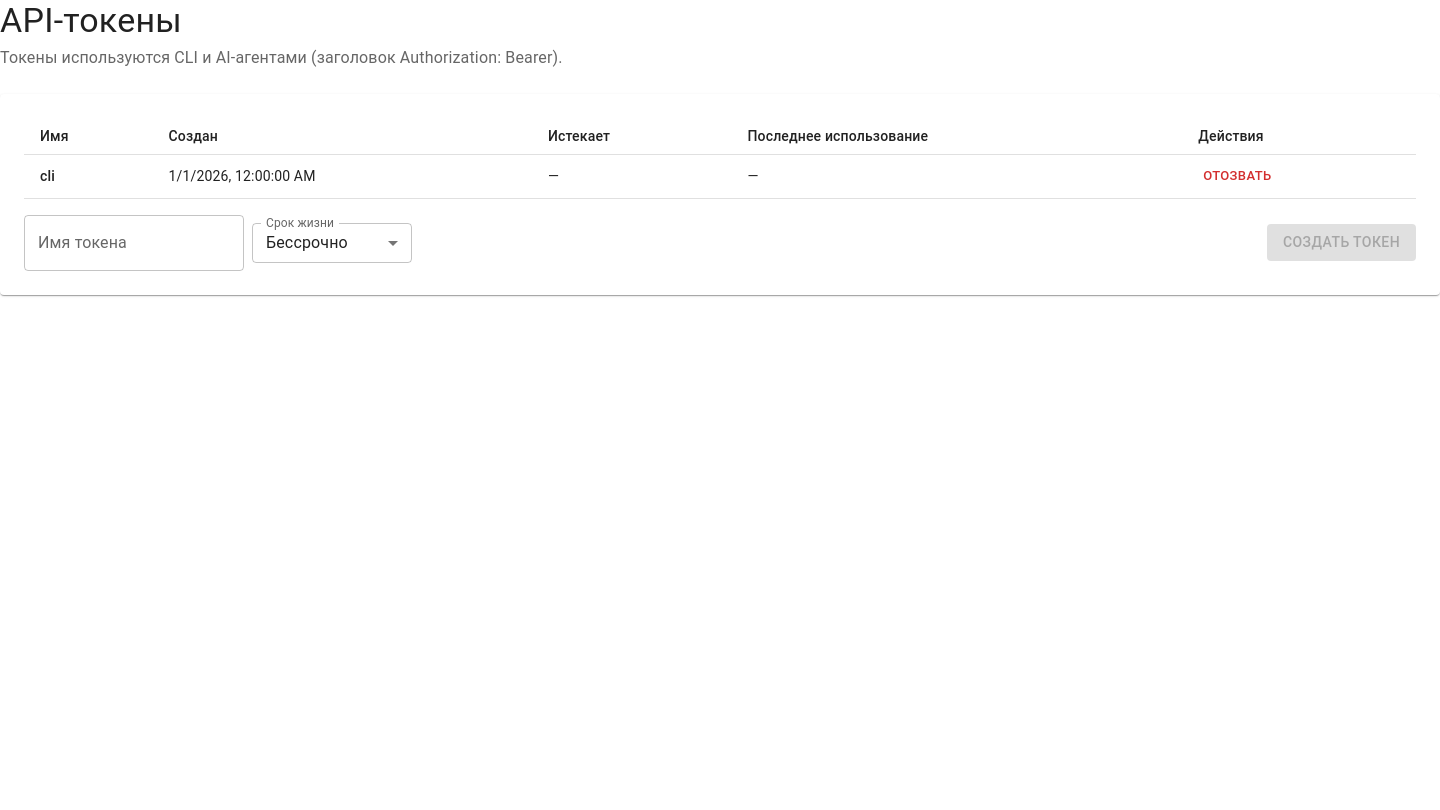
it: lists tokens and creates new one showing raw token once
This screenshot has width=1440, height=810.
Check: the text "cli" is shown, box [24, 154, 153, 198]
Type "new-cli" into the field labelled "Имя токена" at (134, 243), box [24, 215, 244, 271]
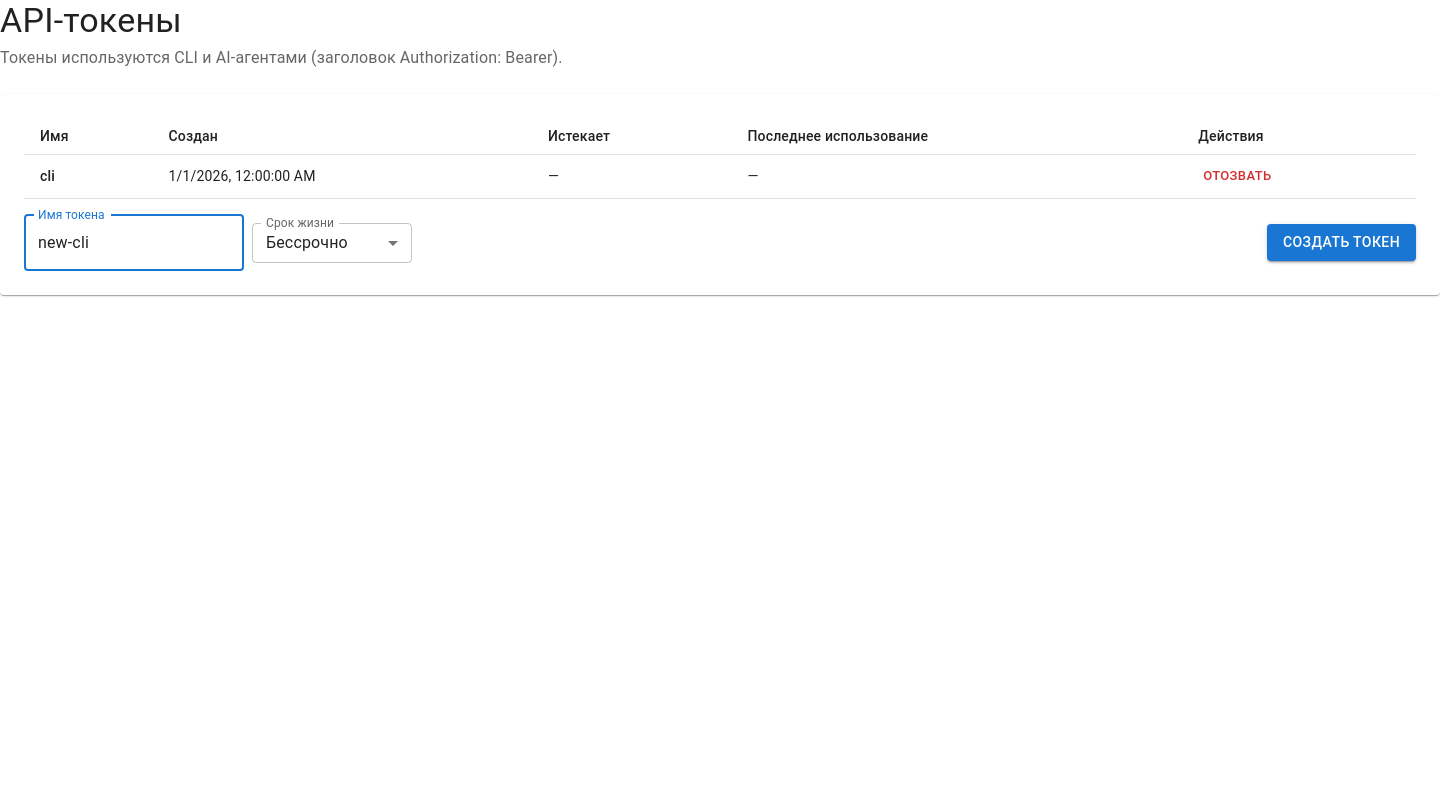
Click the button "Создать токен" at (1342, 243), box [1267, 224, 1416, 261]
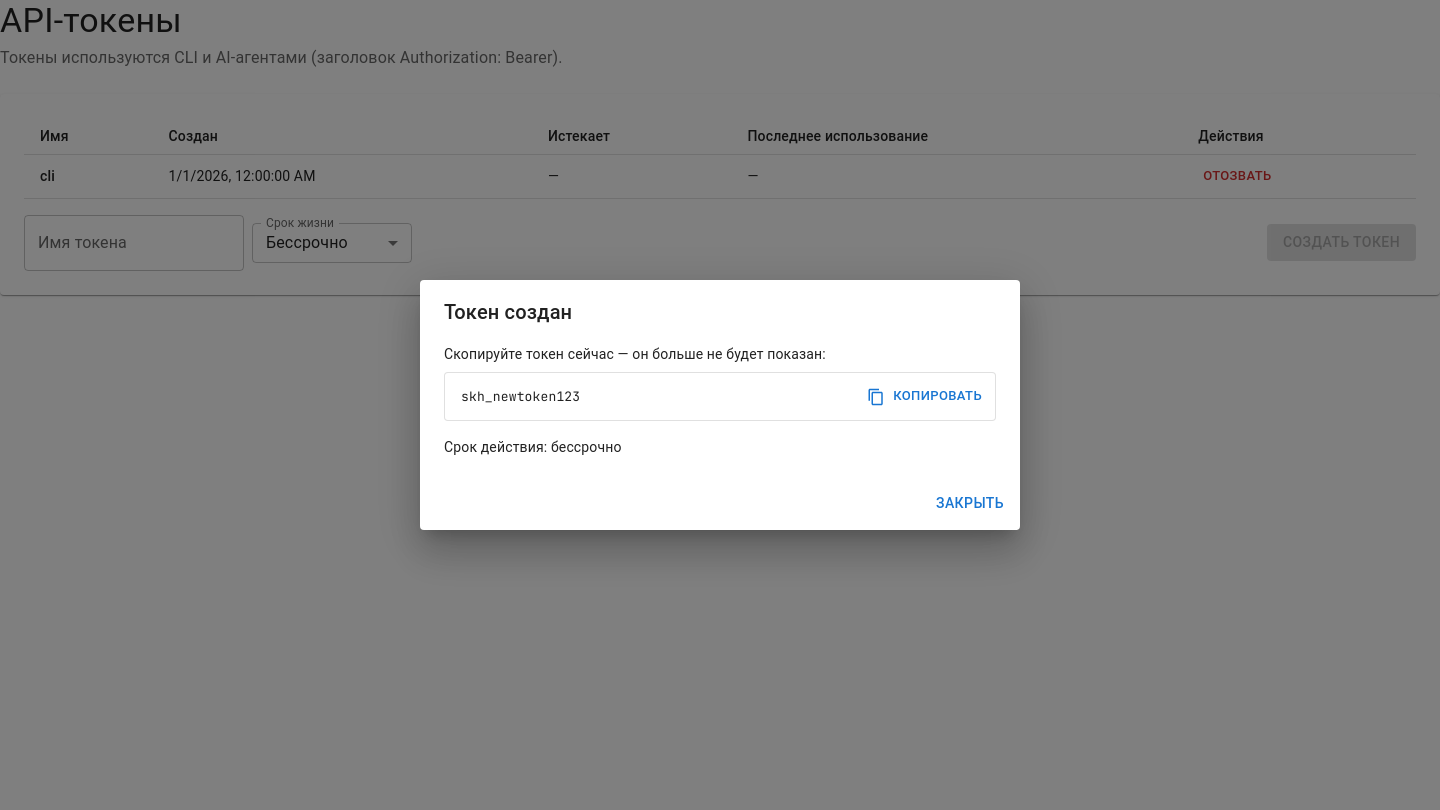
Check: the text "skh_newtoken123" is shown, box [461, 388, 580, 405]
